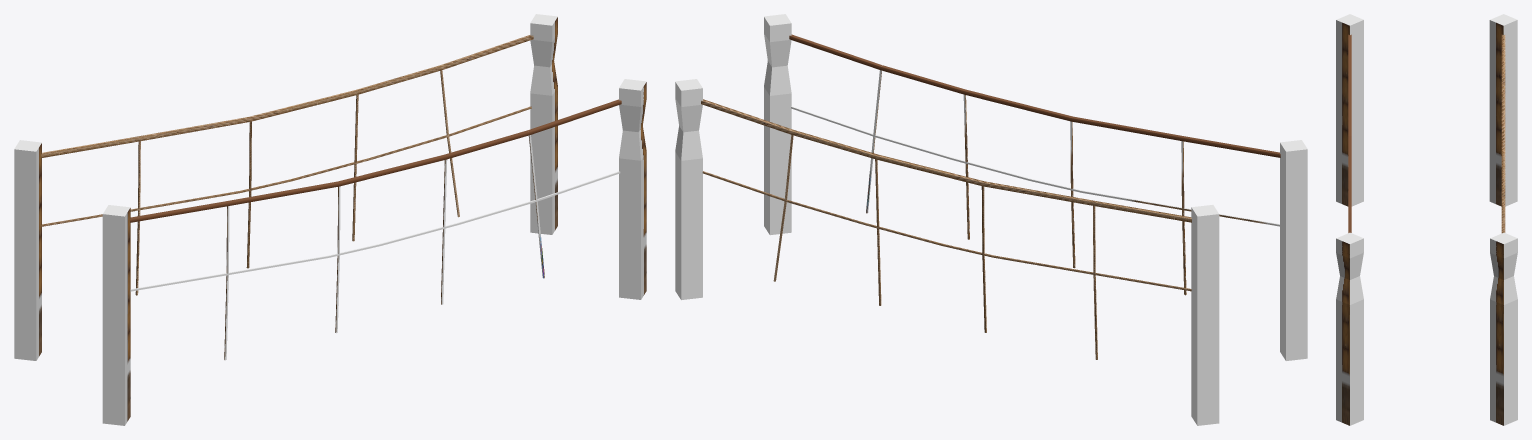
Rendered from C03_JUNGLE_BRIDGE_v05_cordas.fbx.
3 views of the same model, side by side, from view 1: azimuth 30°, elevation 25°; view 2: azimuth 150°, elevation 25°; view 3: azimuth 270°, elevation 25° (orthographic). The views are drawn at different scales.
Visible parts, largest first — view 1: Cube.038; view 2: Cube.038; view 3: Cube.038.
Boxes of the visible parts, bbox=[...] form: Cube.038: bbox=[14, 14, 646, 425]; Cube.038: bbox=[675, 14, 1307, 425]; Cube.038: bbox=[1336, 14, 1517, 425].
Bounding box in the file's own units: 398 × 146 × 133.
